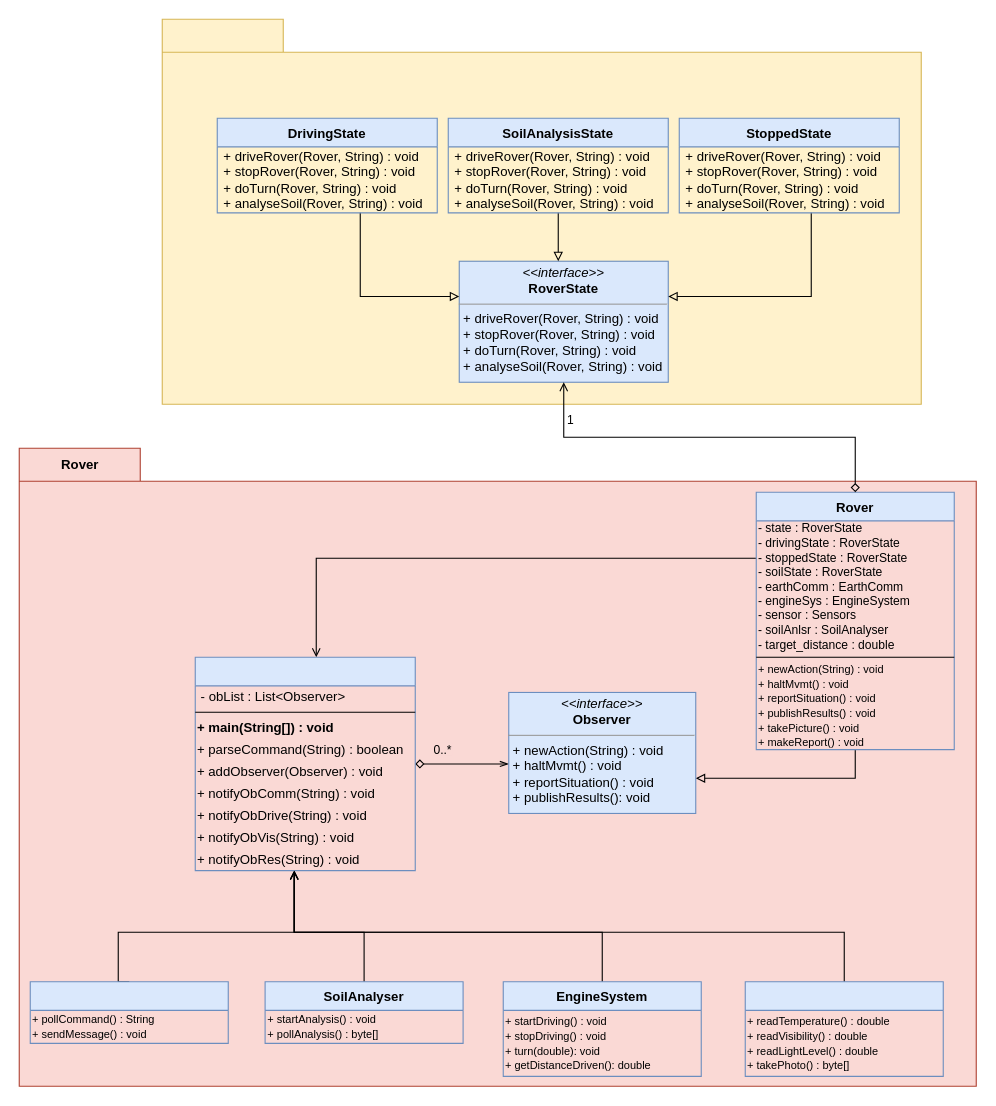
Some shapes in this 996 by 1106 pixel diagram are drawn without their labels. The shapes that lost their labels are listed below. From the top down, each one's box as (x1, y1, x2, y2) in pixels, then its label:
(161, 18, 921, 404): States
(194, 656, 415, 871): RoverApp
(29, 981, 228, 1043): EarthComm
(744, 981, 943, 1076): Sensors
